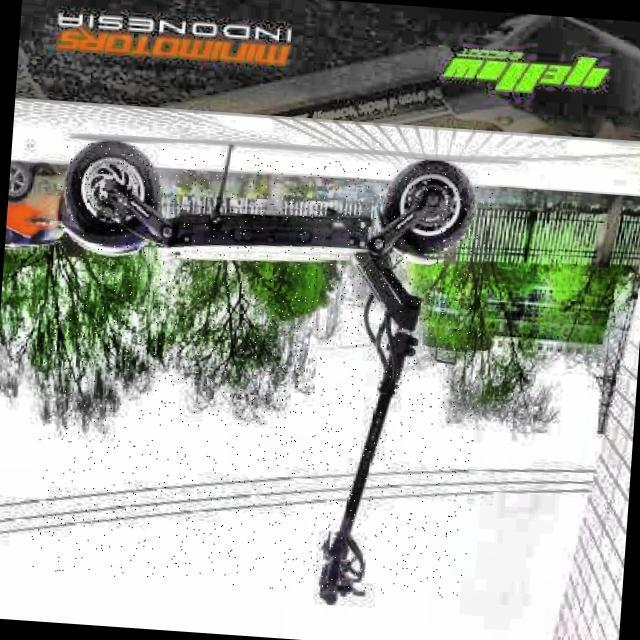bike: (0, 99, 479, 610)
